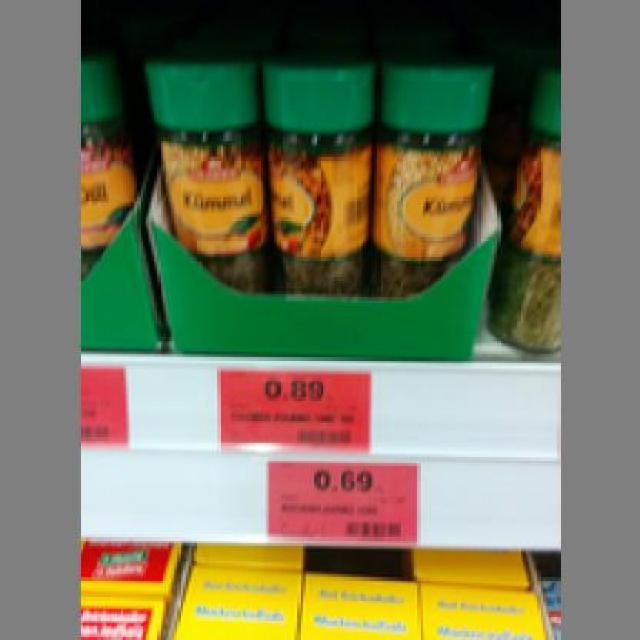Spices: (142, 53, 272, 290), (368, 59, 488, 292), (266, 58, 372, 292)
